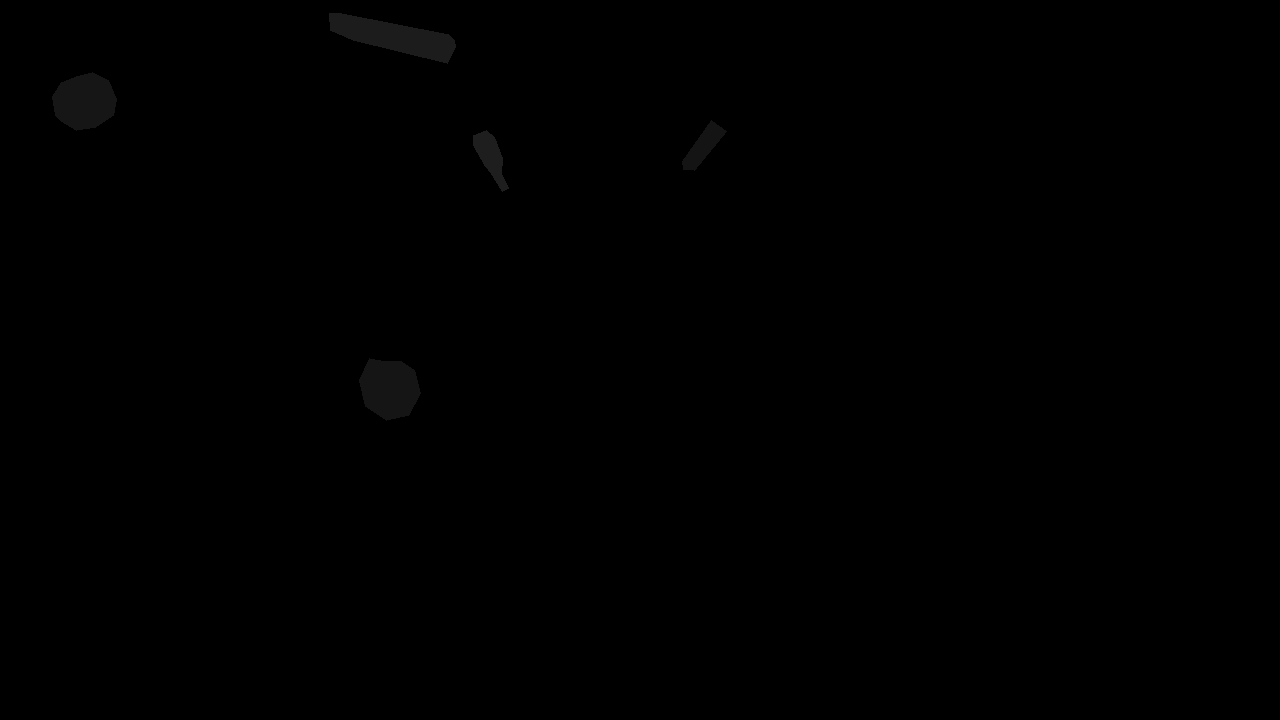Pen_Marker: (329, 13, 455, 63)
Tape_black: (359, 358, 420, 420)
Tape_white: (52, 72, 116, 130)
Usb_Big: (682, 120, 726, 170)
Usb_HDMI: (473, 130, 508, 191)
